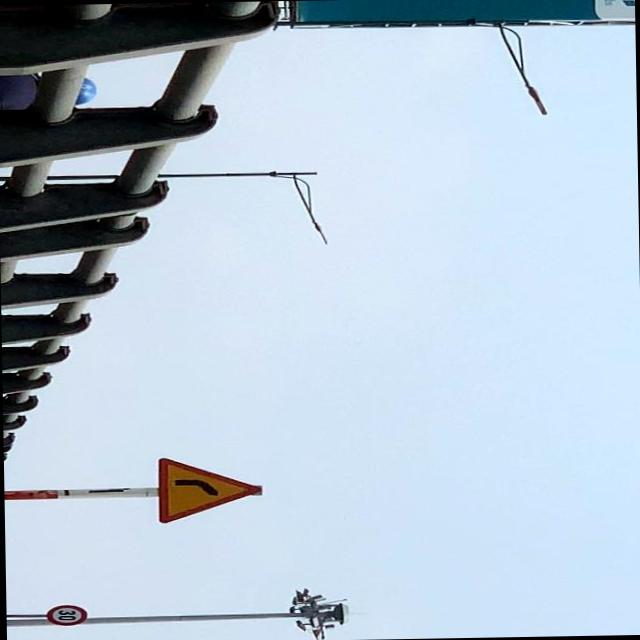P-127: (46, 603, 86, 626)
W-201b: (158, 456, 262, 524)
